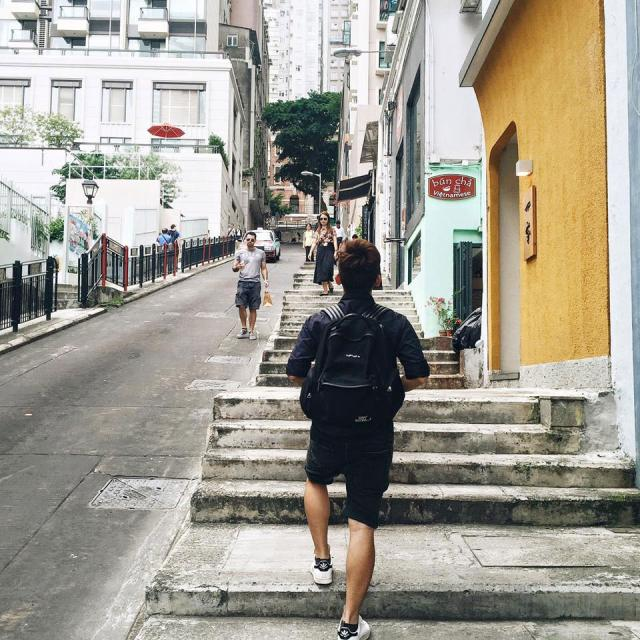body: (283, 236, 433, 640), (231, 230, 270, 341), (448, 298, 495, 376), (306, 210, 340, 297), (153, 227, 181, 271), (156, 227, 173, 279), (331, 219, 346, 268), (301, 221, 318, 263), (167, 223, 180, 270), (226, 222, 237, 241), (314, 214, 322, 237), (234, 223, 243, 240), (350, 233, 359, 240)
